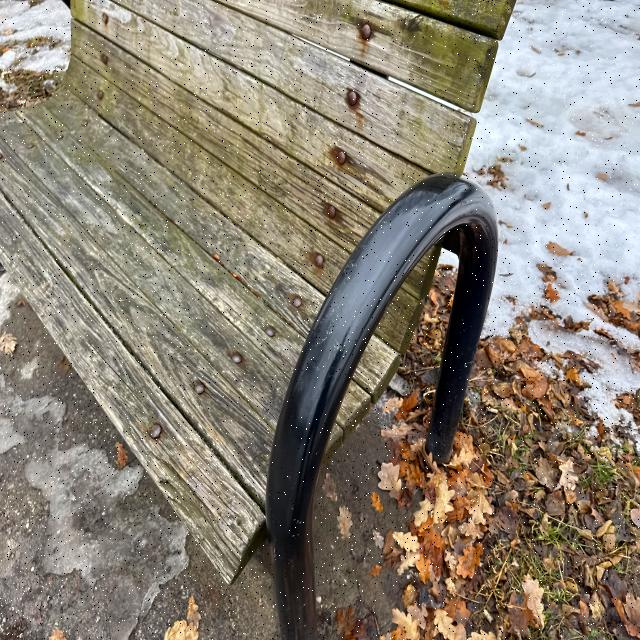Bench: (3, 2, 522, 606)
